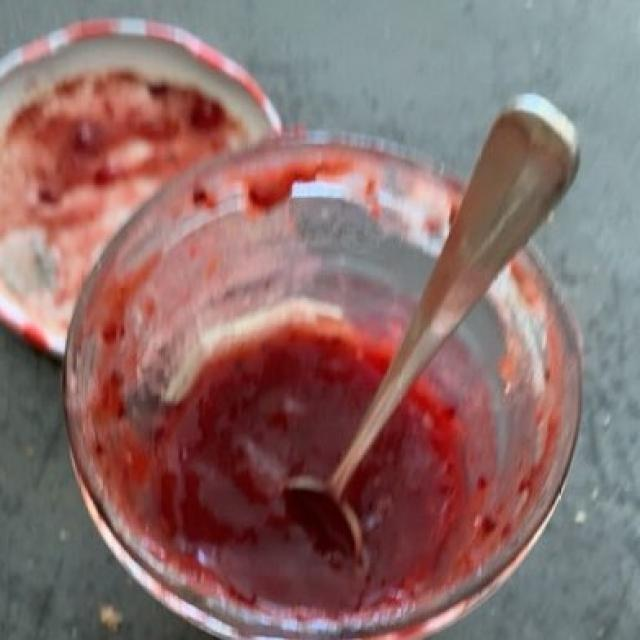jam: (135, 325, 463, 604)
